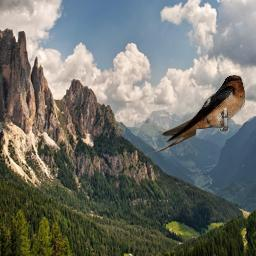Swallow: (151, 75, 245, 152)
